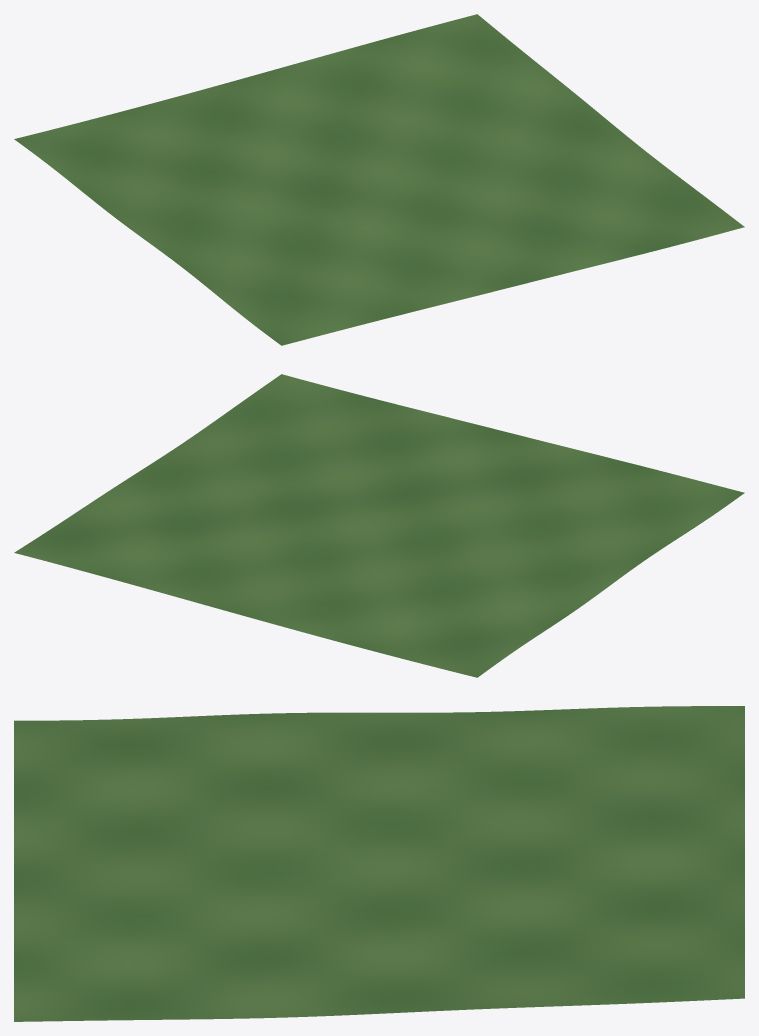
Rendered from chunk_8_10.glb.
The picture shows the model from 3 angles, top to bottom: view 1: azimuth 30°, elevation 25°; view 2: azimuth 150°, elevation 25°; view 3: azimuth 270°, elevation 25°; orthographic projection. The views are drawn at different scales.
Bounding box in the file's own units: 512 × 24.04 × 512.
